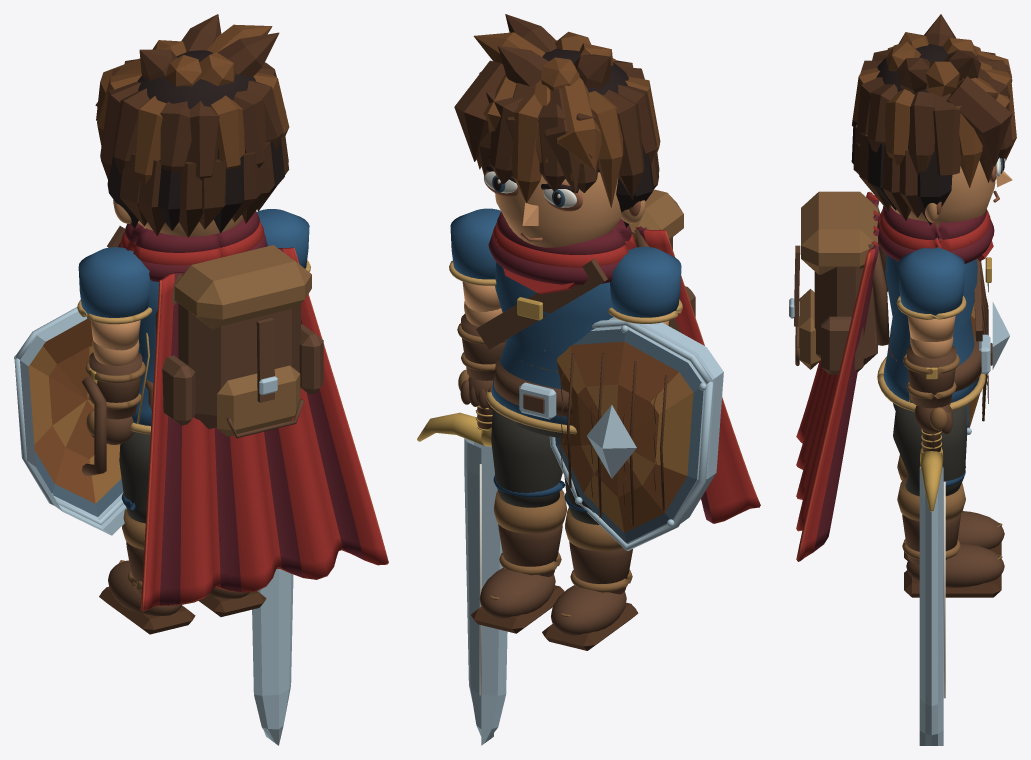
The model's file is wayfarer.glb.
3 views of the same model, side by side, from view 1: azimuth 30°, elevation 25°; view 2: azimuth 150°, elevation 25°; view 3: azimuth 270°, elevation 25° (orthographic). The views are drawn at different scales.
Visible parts, largest first — view 1: Cape Ref cloth | red cape, Head Ref hair | chestnut, Torso Ref leather | leather, Cape Ref cloth | cape shadow, Torso Ref leather | leather edge, Head Ref hair | hair ridge, Shield Ref wood | wood, Head Ref hair | hair shadow, Moonsteel blade, Shield Ref metal | steel, UpperArmL Ref cloth | blue tunic, Shield Ref wood | wood light (+18 smaller); view 2: Head Ref hair | chestnut, Head Ref hair | hair ridge, Shield Ref wood | wood, Moonsteel blade, Shield Ref metal | steel, Torso Ref cloth | blue tunic, Shield Ref wood | wood light, Head Ref skin | warm skin, ThighR Ref cloth | pants, Shield Ref metal | steel shade, UpperArmL Ref cloth | blue tunic, Cape Ref cloth | red cape (+26 smaller); view 3: Head Ref hair | chestnut, Torso Ref leather | leather, Head Ref hair | hair ridge, Torso Ref leather | leather edge, Cape Ref cloth | red cape, Moonsteel blade, Torso Ref cloth | blue tunic, UpperArmR Ref cloth | blue tunic, ThighR Ref cloth | pants, Head Ref hair | hair shadow, Torso Ref cloth | cape shadow, Cape Ref cloth | cape shadow (+21 smaller).
Boxes of the visible parts, x1,y1,x2,y2 form: Cape Ref cloth | red cape: [140, 247, 387, 610]; Head Ref hair | chestnut: [100, 14, 289, 237]; Torso Ref leather | leather: [107, 226, 323, 438]; Cape Ref cloth | cape shadow: [159, 248, 363, 605]; Torso Ref leather | leather edge: [174, 245, 311, 436]; Head Ref hair | hair ridge: [95, 24, 289, 184]; Shield Ref wood | wood: [34, 319, 95, 503]; Head Ref hair | hair shadow: [107, 50, 284, 233]; Moonsteel blade: [252, 569, 293, 745]; Shield Ref metal | steel: [14, 307, 126, 535]; UpperArmL Ref cloth | blue tunic: [78, 247, 149, 317]; Shield Ref wood | wood light: [28, 346, 121, 503]; Head Ref hair | chestnut: [454, 14, 659, 199]; Head Ref hair | hair ridge: [473, 31, 660, 207]; Shield Ref wood | wood: [557, 341, 687, 532]; Moonsteel blade: [464, 438, 507, 745]; Shield Ref metal | steel: [544, 317, 723, 550]; Torso Ref cloth | blue tunic: [491, 262, 613, 425]; Shield Ref wood | wood light: [557, 346, 693, 532]; Head Ref skin | warm skin: [495, 172, 645, 247]; ThighR Ref cloth | pants: [491, 409, 562, 507]; Shield Ref metal | steel shade: [555, 329, 703, 543]; UpperArmL Ref cloth | blue tunic: [610, 246, 681, 317]; Cape Ref cloth | red cape: [635, 227, 759, 523]; Head Ref hair | chestnut: [853, 14, 1012, 220]; Torso Ref leather | leather: [794, 200, 982, 374]; Head Ref hair | hair ridge: [852, 32, 1016, 187]; Torso Ref leather | leather edge: [799, 191, 877, 369]; Cape Ref cloth | red cape: [796, 192, 879, 560]; Moonsteel blade: [919, 466, 943, 745]; Torso Ref cloth | blue tunic: [883, 238, 980, 402]; UpperArmR Ref cloth | blue tunic: [898, 247, 964, 318]; ThighR Ref cloth | pants: [893, 405, 966, 496]; Head Ref hair | hair shadow: [851, 44, 1004, 225]; Torso Ref cloth | cape shadow: [877, 206, 994, 263]; Cape Ref cloth | cape shadow: [814, 199, 879, 551].
Size of the model in its own units: 1.27 by 2.81 by 0.8599.
